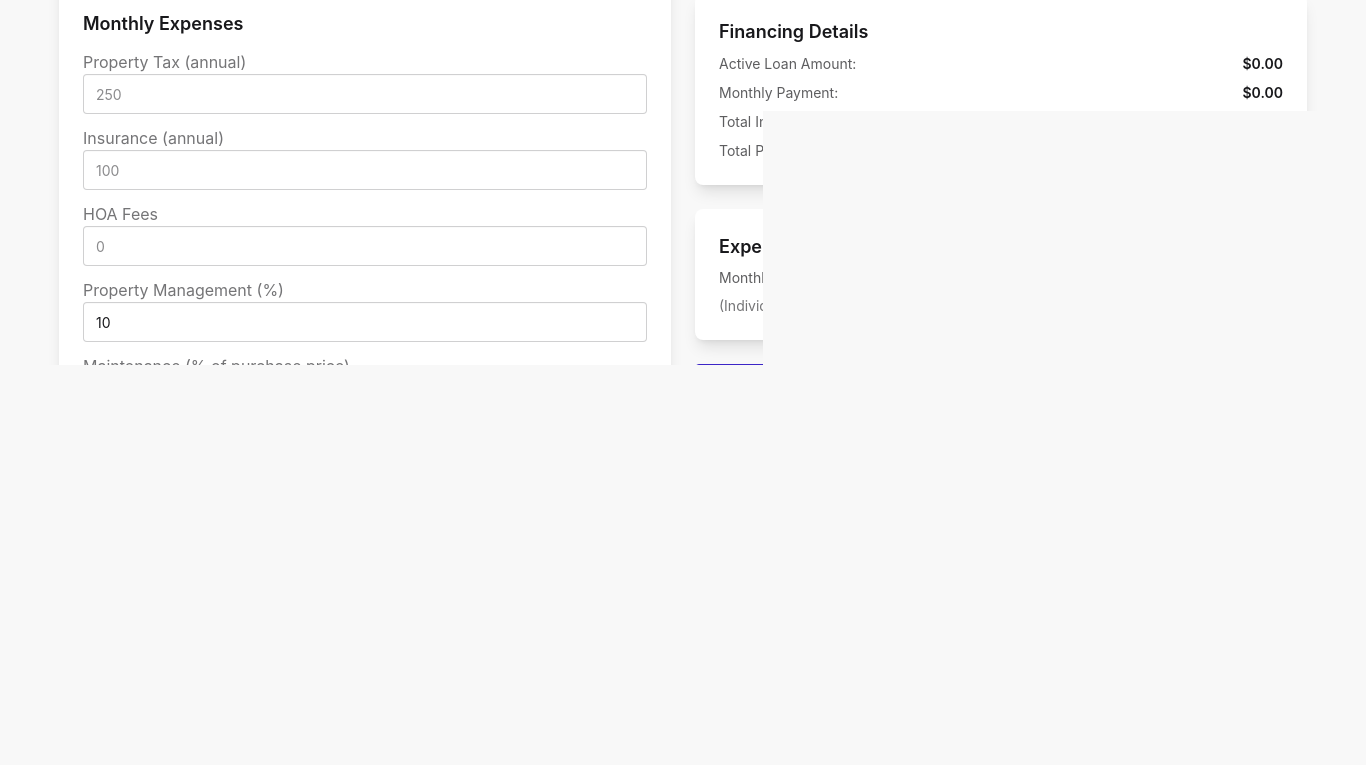
Test: DealAnalyzer › should show validation errors when trying to save without required fields
The width and height of the screenshot is (1366, 765).
(page scrolled)
Click the button "Save Property": x=1001, y=384 x1=695 y1=364 x2=1307 y2=404
(page scrolled)
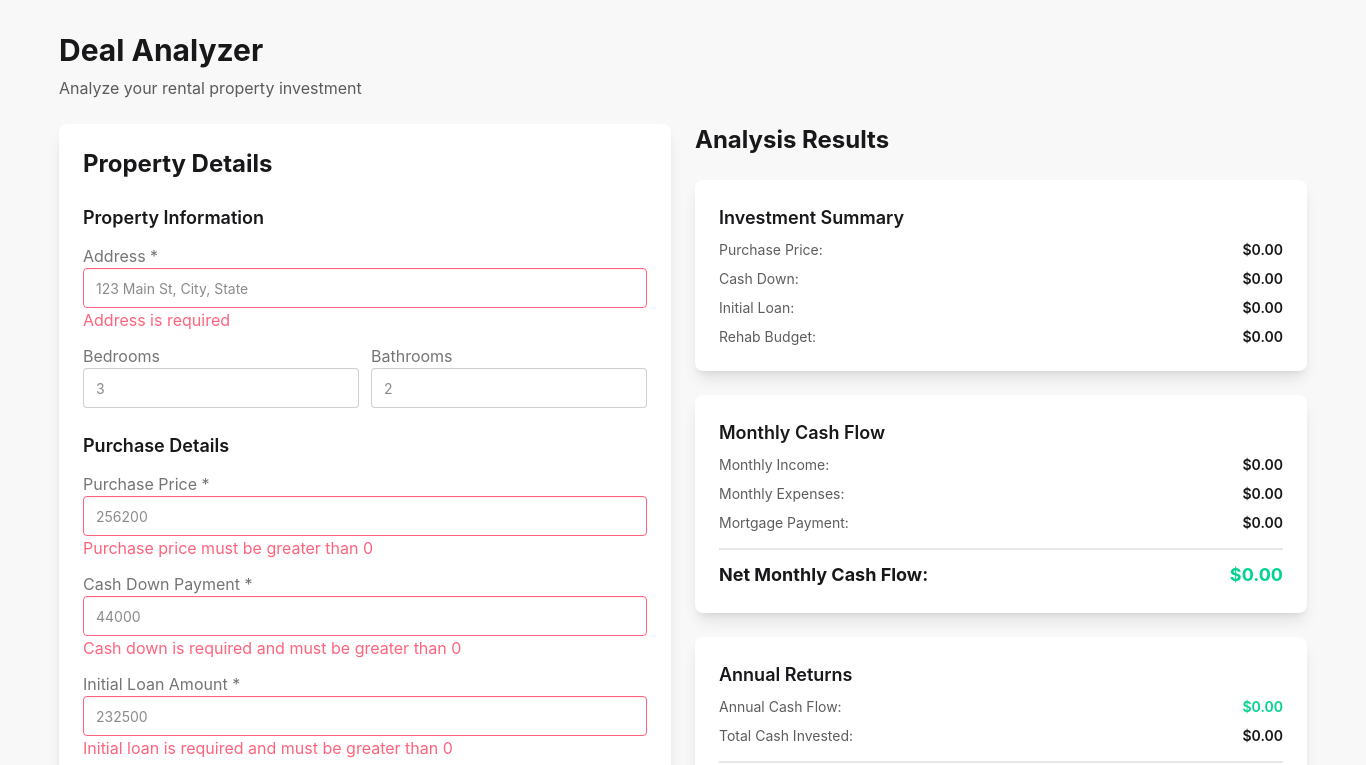
Expected: the text "Address is required" is shown, x1=83 y1=308 x2=230 y2=332
